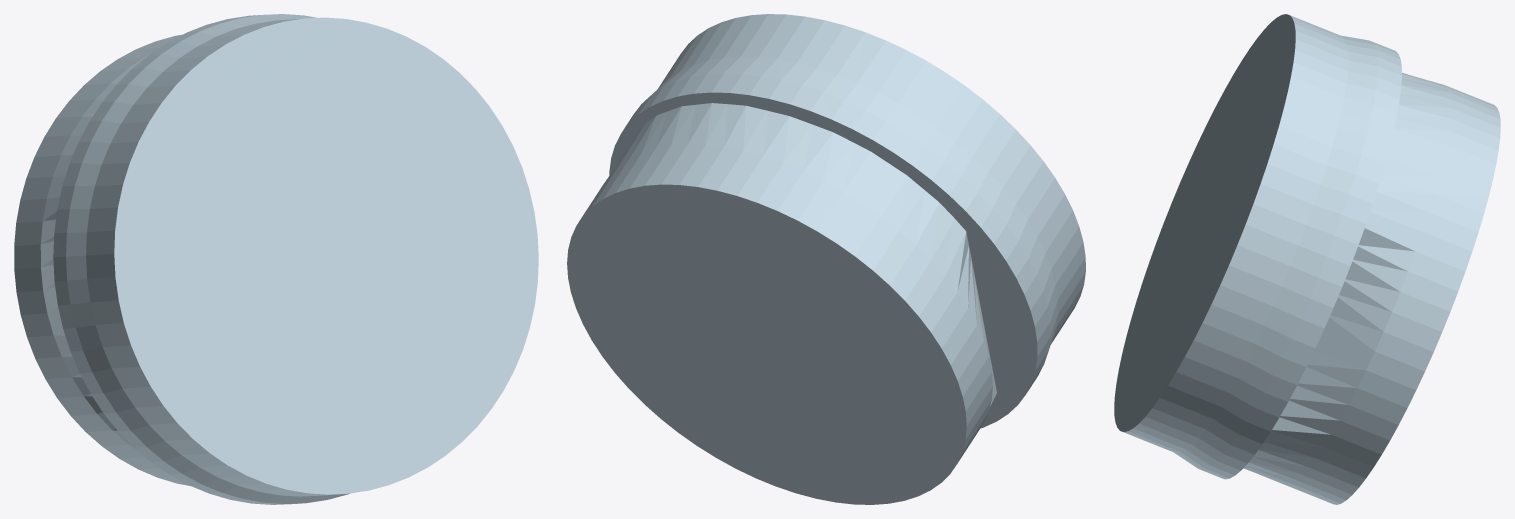
Rendered from right_wrist_z_link_visual_2.obj.full.glb.
3 views of the same model, side by side, from view 1: azimuth 30°, elevation 25°; view 2: azimuth 150°, elevation 25°; view 3: azimuth 270°, elevation 25° (orthographic). The views are drawn at different scales.
Size of the model in its own units: 0.125 by 0.1331 by 0.1047.
